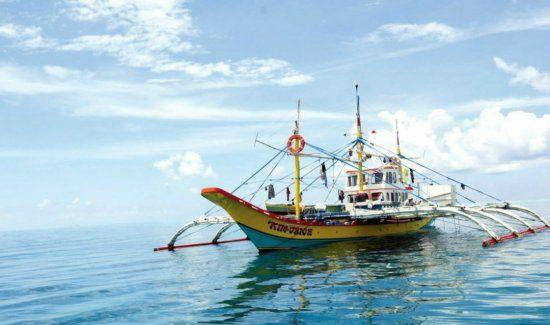otherboat: (176, 123, 456, 255)
